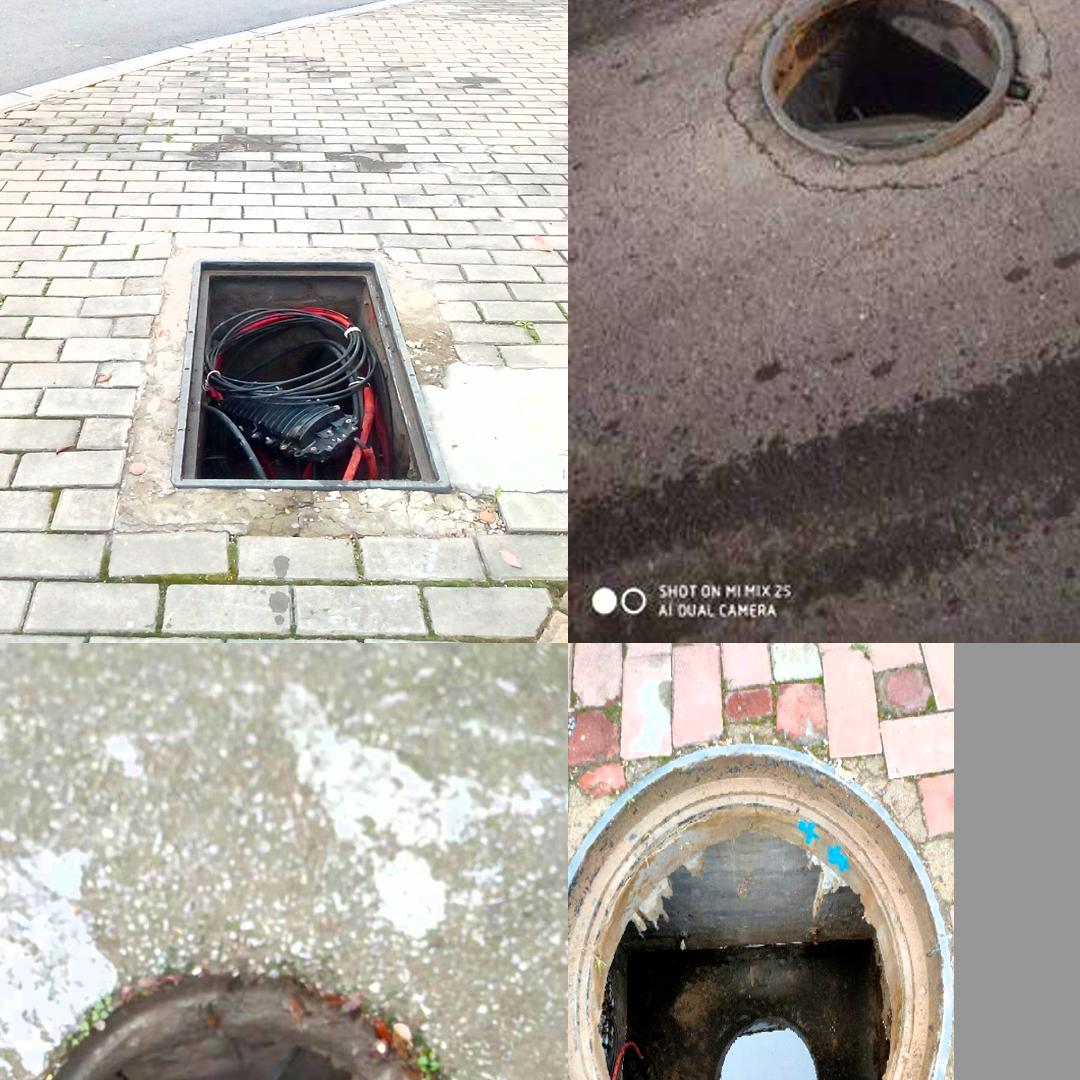lose: (571, 742, 951, 1080), (100, 239, 470, 546), (707, 0, 1056, 200), (0, 965, 476, 1080)
